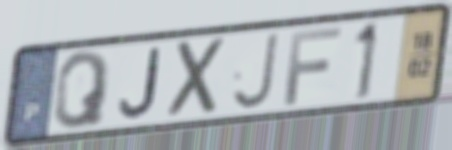1: (351, 20, 381, 102)
F: (281, 24, 345, 108)
J: (230, 29, 281, 113), (115, 45, 162, 121)
Q: (51, 48, 114, 132)
X: (166, 34, 231, 122)
